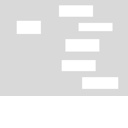square: (79, 74, 119, 91), (63, 36, 101, 53), (57, 3, 94, 18), (60, 58, 97, 72), (15, 18, 43, 36), (76, 20, 113, 32)
